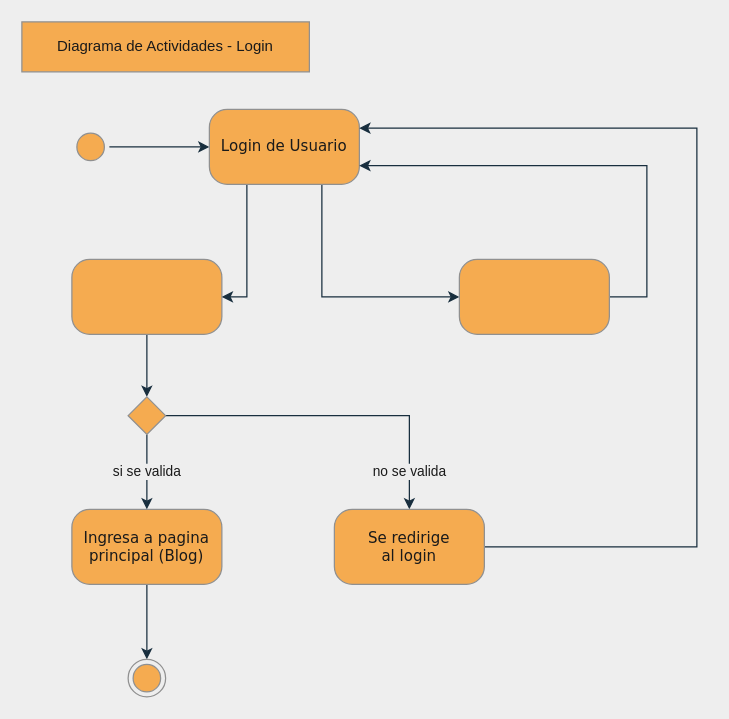
Image size: 729x719. Some labels were removed from this diagram. Here are the shapes that lost their labels. From the top down, the centre of each, then its label:
At (x=146, y=296): "Validar".
At (x=533, y=296): "Registrar".
